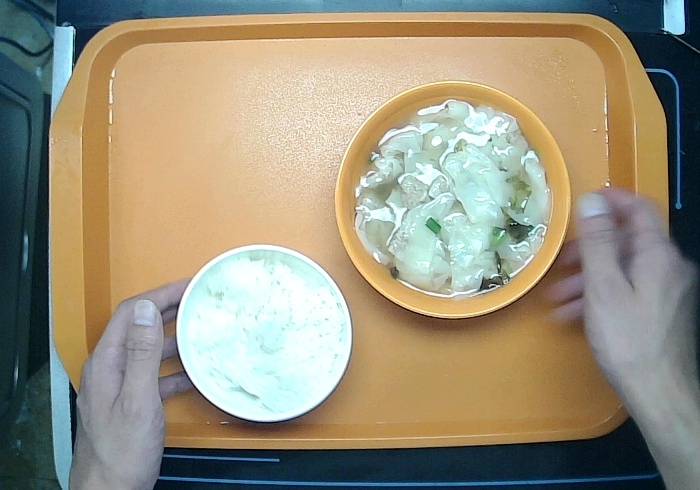NLDX-Fan_Wan: (168, 238, 361, 435)
NLDX-Hun_Tun_Wan: (325, 72, 579, 321)
